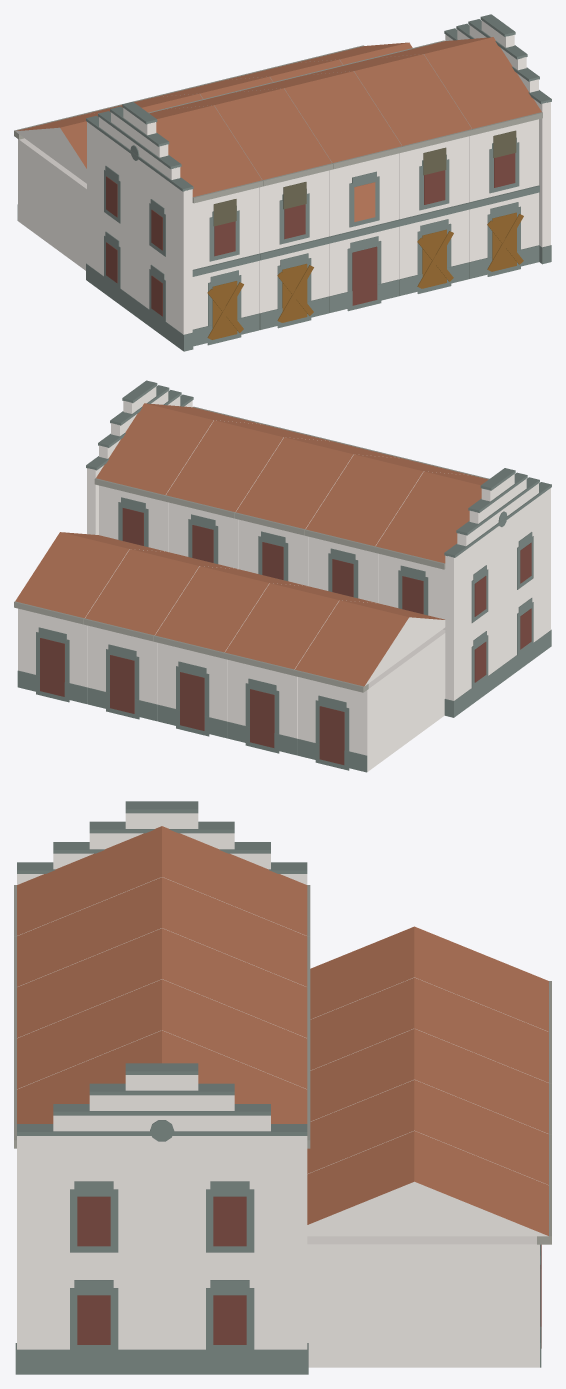
The model's file is SM_EdificioViajerosNules_v0_Abandonada_LOD1.fbx.
3 views of the same model, one above another, from view 1: azimuth 30°, elevation 25°; view 2: azimuth 150°, elevation 25°; view 3: azimuth 270°, elevation 25° (orthographic). The views are drawn at different scales.
Visible parts, largest first — view 1: SM_edificio_viajeros_nules_v0_LOD1; view 2: SM_edificio_viajeros_nules_v0_LOD1; view 3: SM_edificio_viajeros_nules_v0_LOD1.
Boxes of the visible parts, x1,y1,x2,y2 form: SM_edificio_viajeros_nules_v0_LOD1: [14, 14, 551, 351]; SM_edificio_viajeros_nules_v0_LOD1: [14, 380, 551, 772]; SM_edificio_viajeros_nules_v0_LOD1: [14, 801, 551, 1374].
Size of the model in its own units: 21.12 by 11.24 by 17.8.
